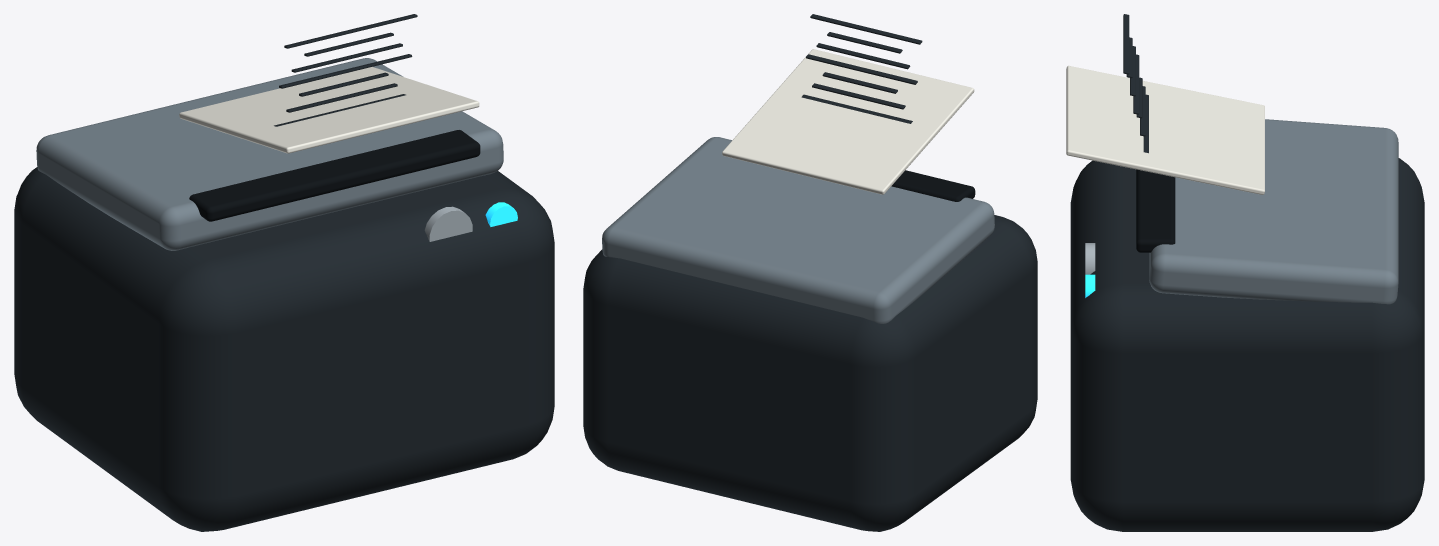
Rendered from receipt-printer.glb.
3 views of the same model, side by side, from view 1: azimuth 30°, elevation 25°; view 2: azimuth 150°, elevation 25°; view 3: azimuth 270°, elevation 25° (orthographic). The views are drawn at different scales.
Visible parts, largest first — view 1: Thermal printer enclosure, Hinged paper lid, Printed receipt, Receipt exit, Premium thermal receipt printer, Feed button; view 2: Thermal printer enclosure, Hinged paper lid, Printed receipt, Premium thermal receipt printer, Receipt exit; view 3: Thermal printer enclosure, Hinged paper lid, Printed receipt, Receipt exit, Premium thermal receipt printer.
Part boxes in pixels (<box>): Thermal printer enclosure: <box>14,167,554,531</box>; Hinged paper lid: <box>36,58,503,250</box>; Printed receipt: <box>179,67,479,153</box>; Receipt exit: <box>189,130,480,221</box>; Premium thermal receipt printer: <box>274,14,417,126</box>; Feed button: <box>424,206,472,241</box>; Thermal printer enclosure: <box>583,215,1037,531</box>; Hinged paper lid: <box>602,137,994,323</box>; Printed receipt: <box>722,49,974,194</box>; Premium thermal receipt printer: <box>801,14,922,123</box>; Receipt exit: <box>892,170,975,201</box>; Thermal printer enclosure: <box>1070,158,1424,531</box>; Hinged paper lid: <box>1149,119,1398,304</box>; Printed receipt: <box>1066,65,1264,194</box>; Receipt exit: <box>1136,169,1175,252</box>; Premium thermal receipt printer: <box>1123,14,1148,153</box>.
Bounding box in the file's own units: 1.25 × 1.41 × 1.09.
